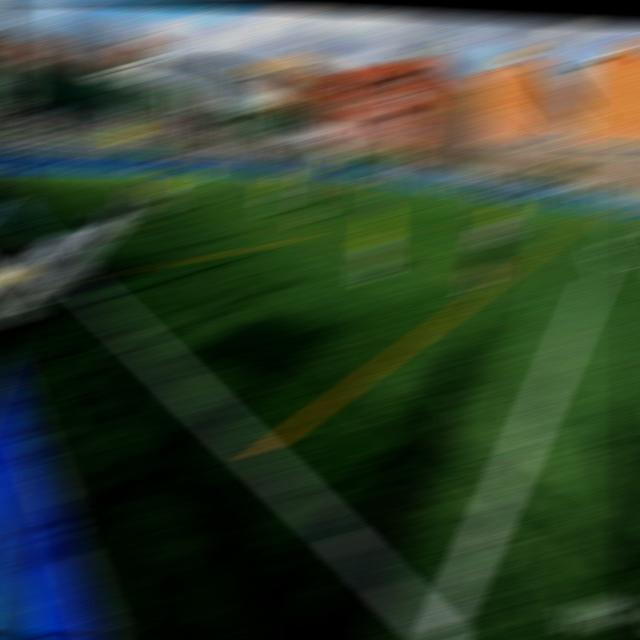bigarea_bottom_outter: (94, 172, 117, 176)
bigarea_top_inner: (368, 182, 387, 187)
corner: (340, 176, 360, 177)
halfcircle_bottom: (590, 244, 620, 275)
halfcircle_top: (605, 221, 632, 235)
midline_bottom_intersection: (406, 583, 479, 638)
midline_top_intersection: (616, 212, 635, 216)
smallarea_bottom_outter: (176, 173, 196, 173)
smallarea_top_inner: (285, 176, 303, 178)
top_arc_area_intersection: (323, 183, 345, 185)
